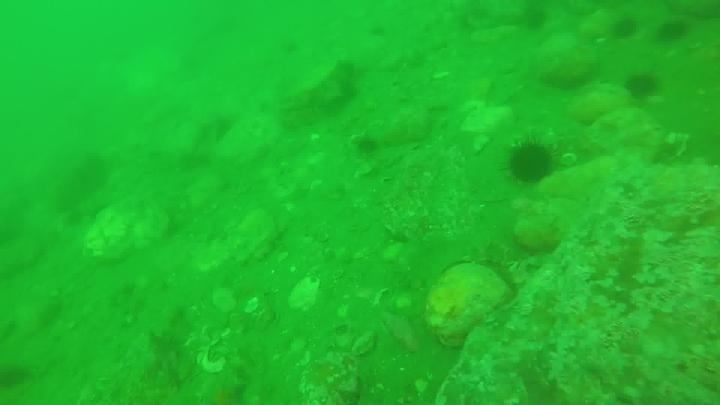echinus: (504, 139, 557, 187), (622, 71, 662, 102), (655, 17, 691, 44), (1, 361, 32, 392), (609, 15, 640, 42), (352, 133, 382, 158)
scallop: (422, 261, 511, 345), (286, 274, 323, 315), (349, 329, 379, 358), (209, 287, 239, 315)
starfish: (197, 379, 249, 404)
